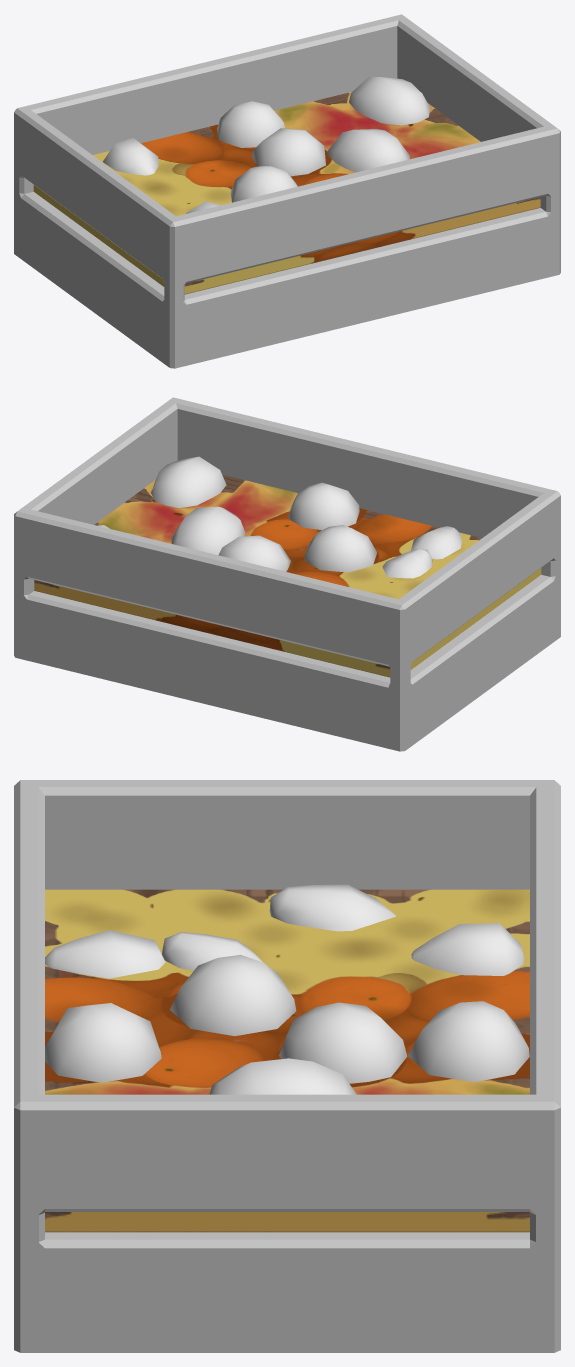
The model's file is fruitbox.fbx.
3 renders of one model, top to bottom at view 1: azimuth 30°, elevation 25°; view 2: azimuth 150°, elevation 25°; view 3: azimuth 270°, elevation 25°, orthographic. The views are drawn at different scales.
Visible parts, largest first — view 1: fruitbox, fruits; view 2: fruitbox, fruits; view 3: fruitbox, fruits.
Part boxes in pixels (box(x1,y1,x2,y2)): fruitbox: box(14, 14, 560, 368); fruits: box(103, 77, 430, 213); fruitbox: box(14, 397, 560, 751); fruits: box(98, 456, 461, 578); fruitbox: box(14, 780, 560, 1352); fruits: box(45, 884, 529, 1094).
Size of the model in its own units: 94 by 33.3 by 66.43.
